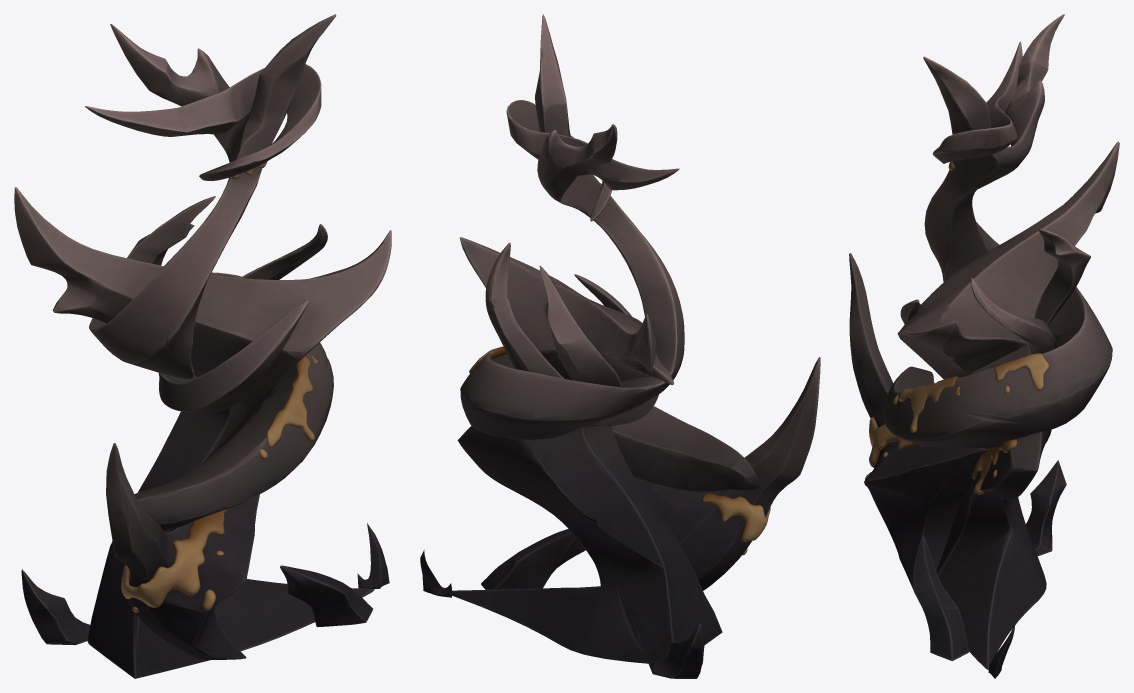
Rendered from obsidian_tower_01_c.glb.
3 views of the same model, side by side, from view 1: azimuth 30°, elevation 25°; view 2: azimuth 150°, elevation 25°; view 3: azimuth 270°, elevation 25° (orthographic). The views are drawn at different scales.
Parts seen in each view (by area): view 1: SM_KC_OBSIDIAN_TOWER_01_C; view 2: SM_KC_OBSIDIAN_TOWER_01_C; view 3: SM_KC_OBSIDIAN_TOWER_01_C.
Part boxes in pixels (x1,y1,x2,y2): SM_KC_OBSIDIAN_TOWER_01_C: [14, 14, 391, 678]; SM_KC_OBSIDIAN_TOWER_01_C: [420, 14, 820, 678]; SM_KC_OBSIDIAN_TOWER_01_C: [849, 14, 1119, 678].
Size of the model in its own units: 43.59 by 72.64 by 30.67.
Materials: 1 (1 with a texture image).
